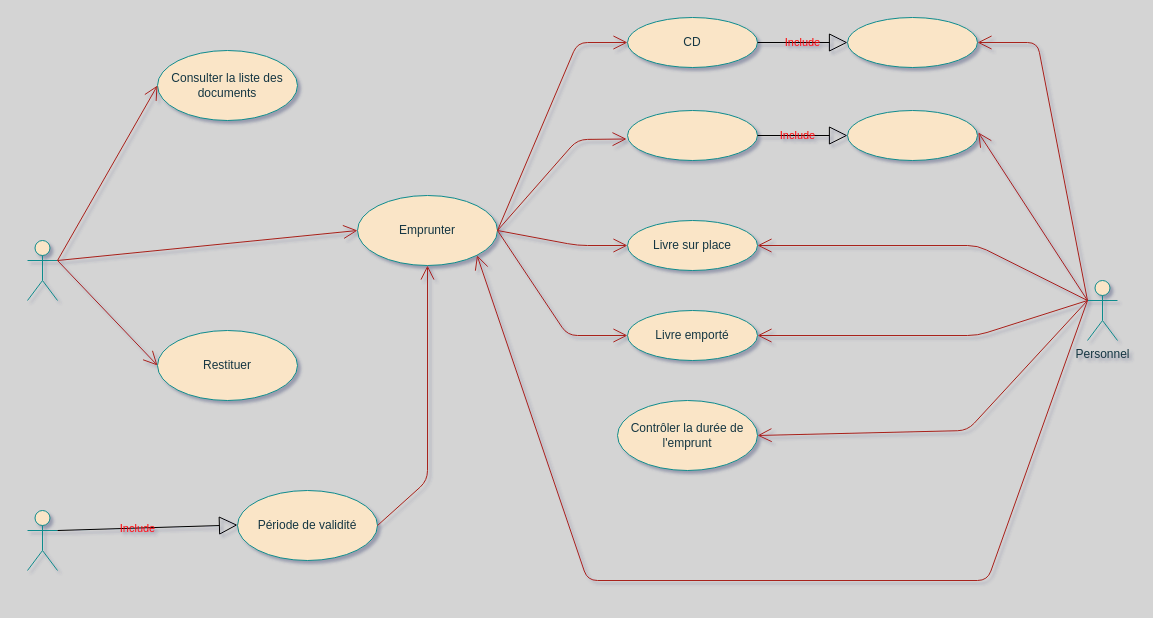
Some shapes in this 1153 by 618 pixel diagram are drawn without their labels. The shapes that lost their labels are listed below. From the top down, each one's centre as x and y in pixels, then its label:
point (912, 42): caution
point (692, 135): microfilm
point (912, 135): écran disponible
point (42, 270): Lecteur
point (42, 540): Bénévole
